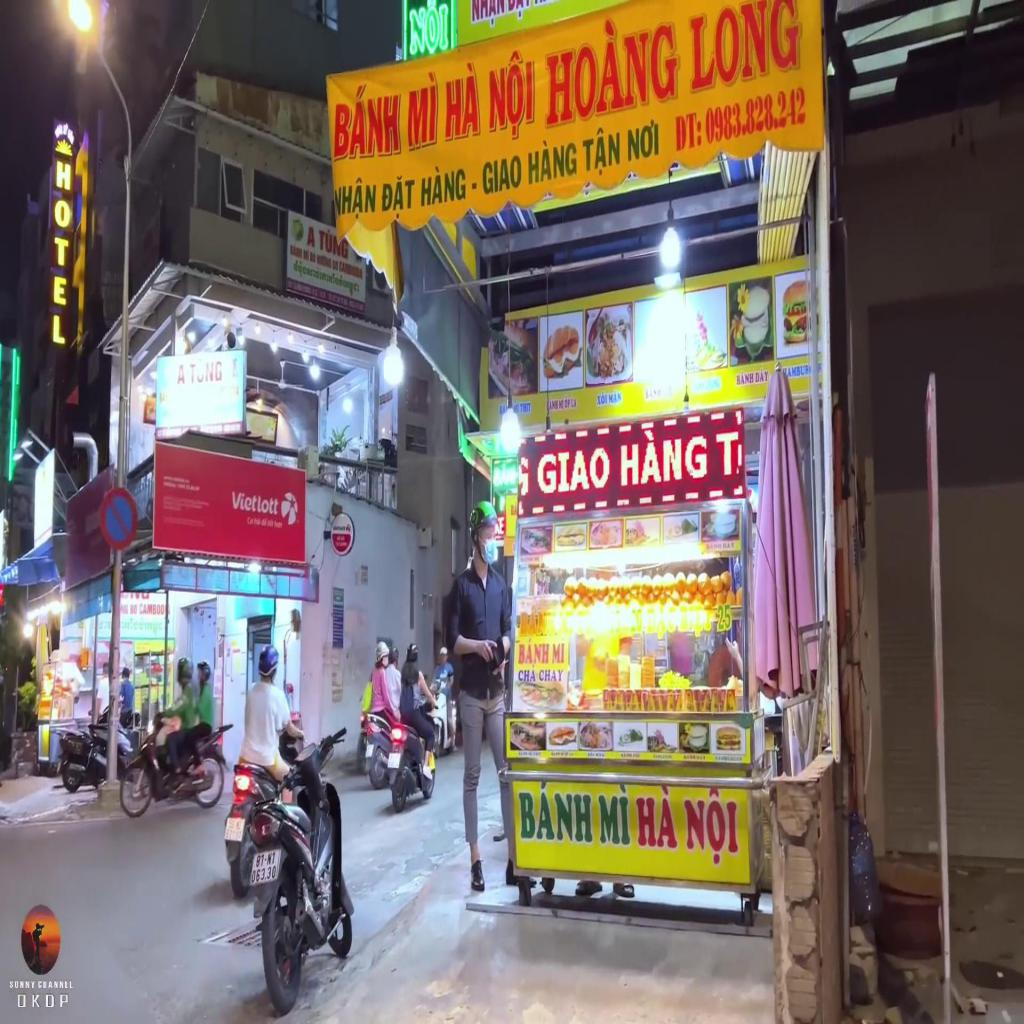cam_do_xe: (101, 487, 136, 550)
